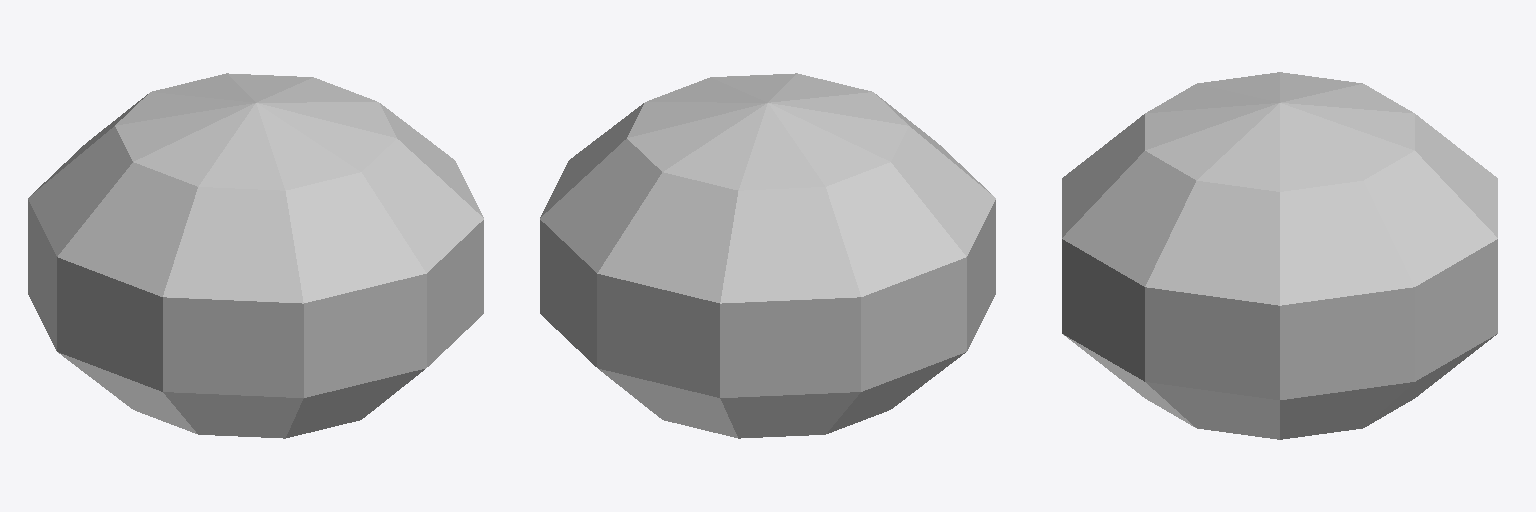
File: right_shoulder.obj
3 renders of one model, left to right at view 1: azimuth 30°, elevation 25°; view 2: azimuth 150°, elevation 25°; view 3: azimuth 270°, elevation 25°, orthographic.
Parts seen in each view (by area): view 1: joint__right_shoulder; view 2: joint__right_shoulder; view 3: joint__right_shoulder.
Part boxes in pixels (x1,y1,x2,y2): joint__right_shoulder: (28, 73, 483, 438); joint__right_shoulder: (540, 73, 995, 438); joint__right_shoulder: (1062, 72, 1497, 439).
Size of the model in its own units: 2.85 by 2.1 by 2.71.